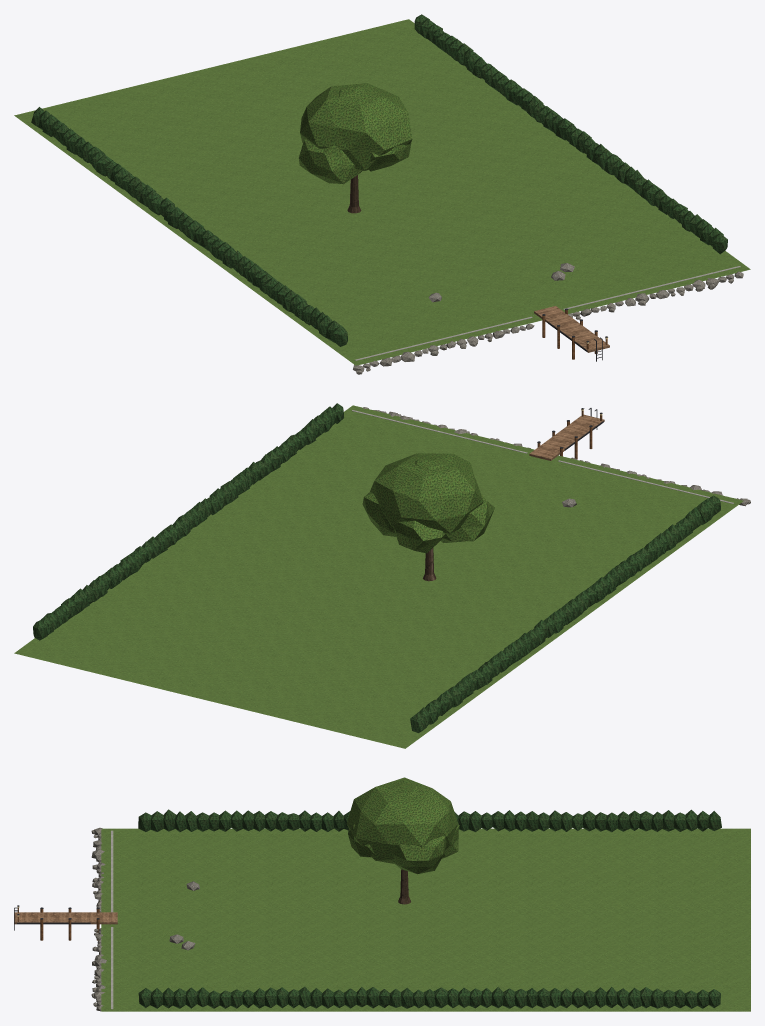
The model's file is lot-8409.fbx.
3 renders of one model, top to bottom at view 1: azimuth 30°, elevation 25°; view 2: azimuth 150°, elevation 25°; view 3: azimuth 270°, elevation 25°, orthographic. The views are drawn at different scales.
Visible parts, largest first — view 1: lot-8409_LOD0; view 2: lot-8409_LOD0; view 3: lot-8409_LOD0.
Boxes of the visible parts, box(x1,y1,x2,y2) form: lot-8409_LOD0: box(14, 14, 750, 374); lot-8409_LOD0: box(14, 403, 750, 748); lot-8409_LOD0: box(14, 777, 750, 1011).
Size of what is drawn, in the model's own units: 40.51 by 13.09 by 68.08.
1 material, 1 textured.
